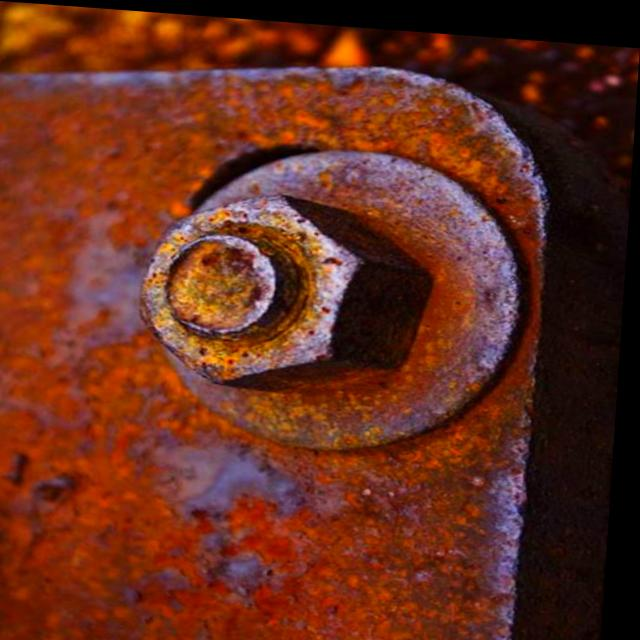Rusty bolt: (139, 183, 435, 398)
